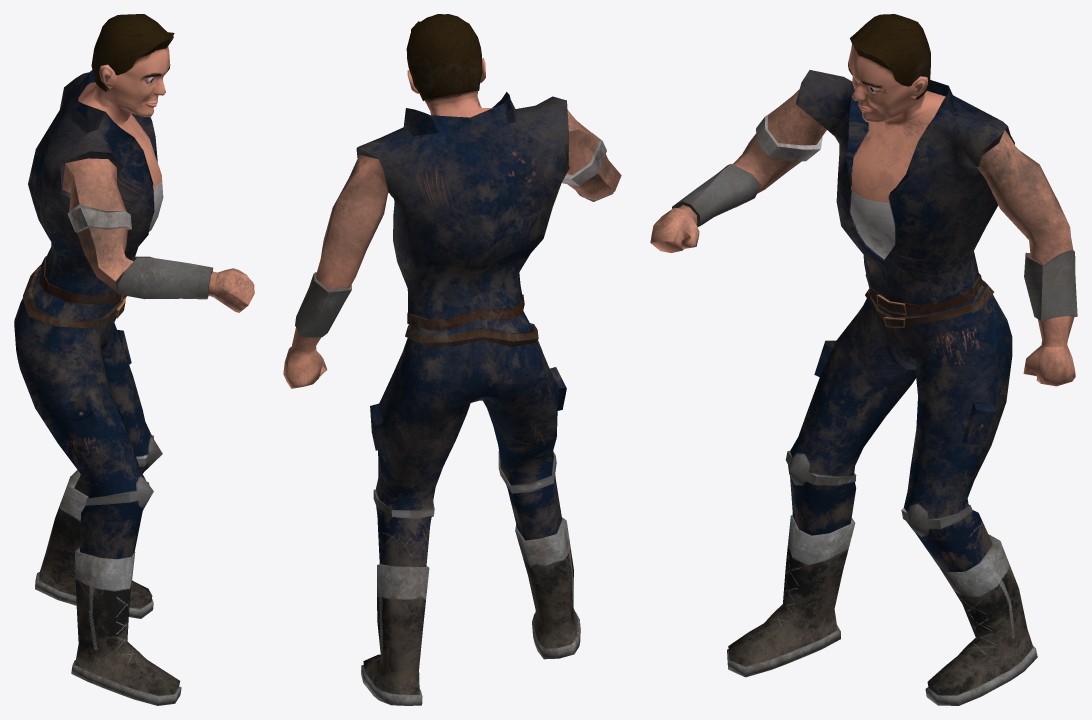
Rendered from Anim_interruptor_jugador.0030.obj.
3 views of the same model, side by side, from view 1: azimuth 30°, elevation 25°; view 2: azimuth 150°, elevation 25°; view 3: azimuth 270°, elevation 25° (orthographic). The views are drawn at different scales.
Visible parts, largest first — view 1: polySurface1; view 2: polySurface1; view 3: polySurface1.
Boxes of the visible parts, x1,y1,x2,y2 form: polySurface1: (14,14,254,705); polySurface1: (283,14,621,705); polySurface1: (650,14,1077,705).
Size of the model in its own units: 2.82 by 9.33 by 5.39.
